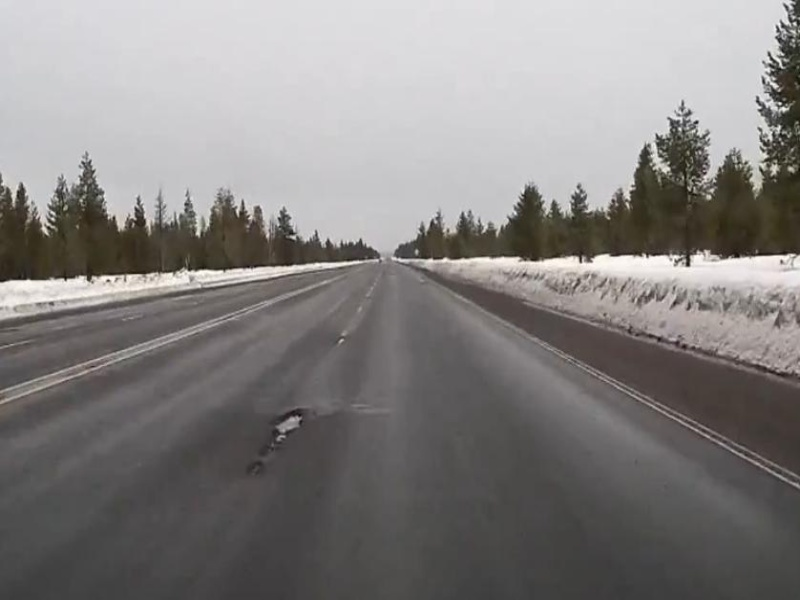pothole: (249, 405, 310, 470)
